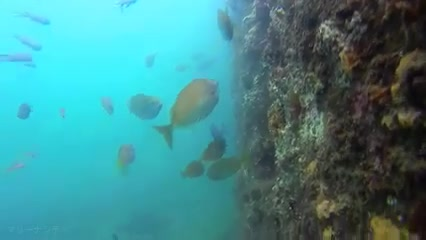smallfish: (148, 70, 224, 152), (112, 141, 138, 177)
